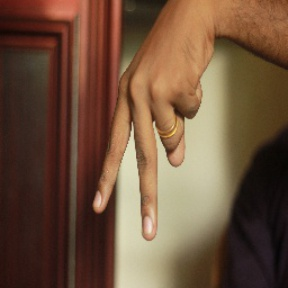Y: (86, 58, 209, 244)
